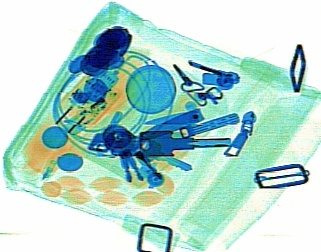lighter: (58, 84, 120, 136)
